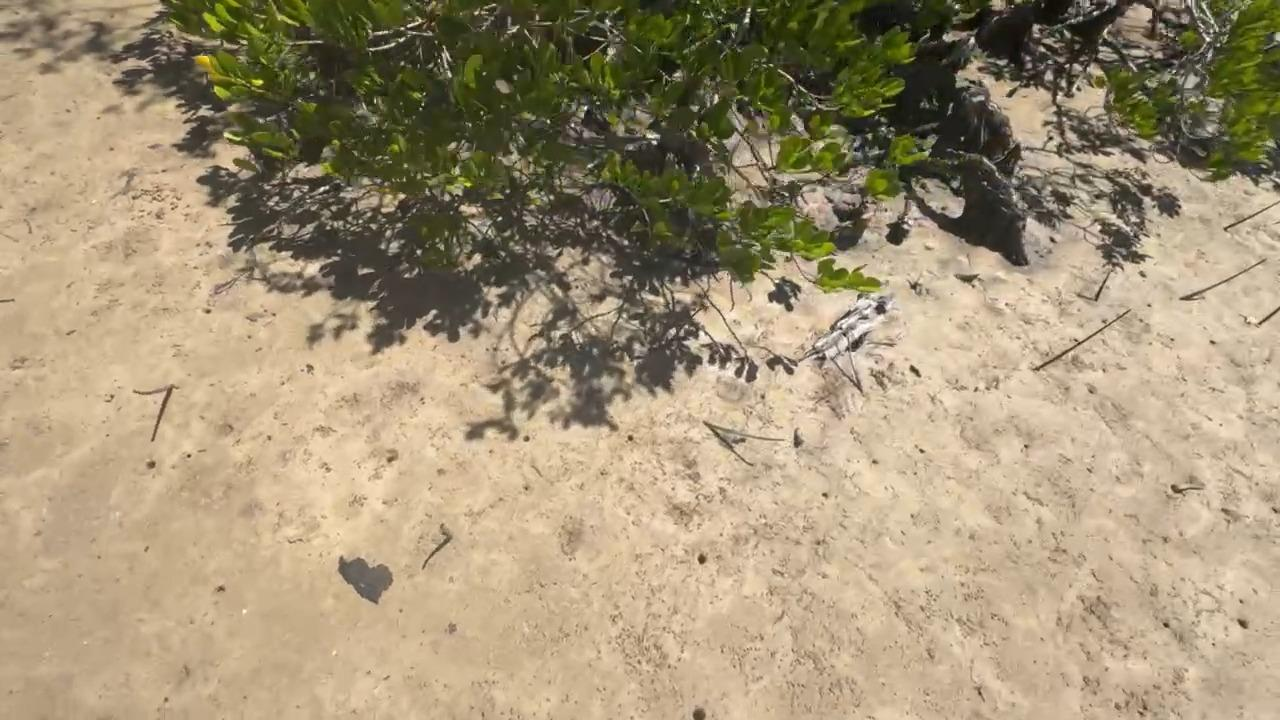Tree: (1036, 309, 1134, 370), (1181, 258, 1268, 299), (1224, 199, 1280, 231), (703, 422, 785, 440), (1095, 267, 1113, 302), (133, 383, 174, 395), (1259, 307, 1280, 325), (440, 524, 451, 540)
